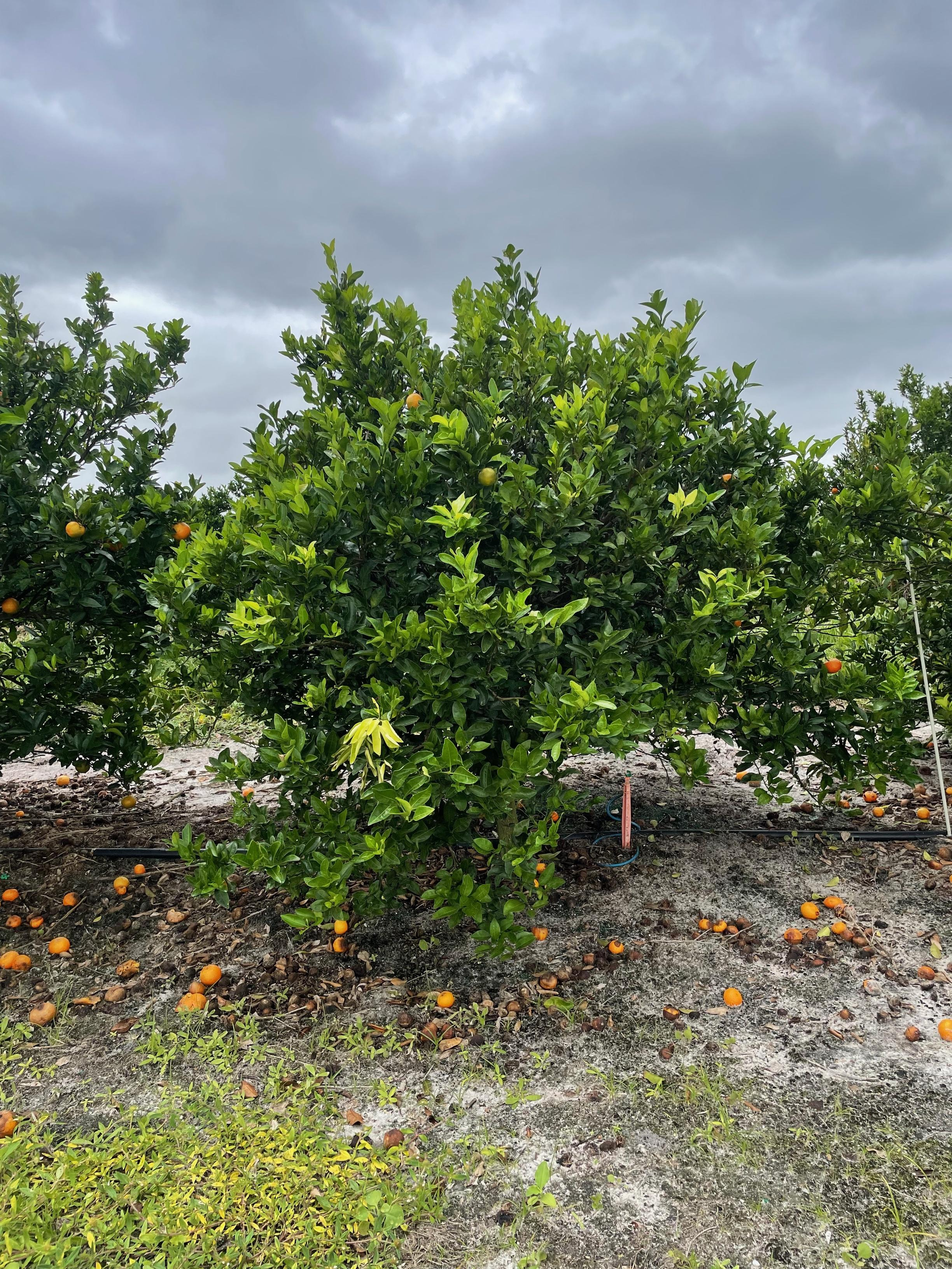fruit_on_ground: (101, 528, 131, 555), (167, 518, 194, 542), (62, 517, 88, 541), (475, 465, 500, 488), (820, 654, 845, 675), (1, 593, 22, 618), (403, 390, 426, 411), (717, 470, 739, 490), (119, 792, 139, 810), (726, 614, 744, 631), (73, 757, 91, 774), (830, 486, 839, 496)
fruit_on_tree: (28, 1000, 57, 1026), (175, 992, 208, 1013), (0, 1108, 19, 1139), (199, 962, 223, 984), (434, 988, 456, 1010), (723, 986, 744, 1007), (48, 935, 71, 954), (331, 914, 351, 935), (799, 900, 821, 919), (936, 1017, 952, 1043), (329, 935, 350, 954), (184, 977, 207, 994), (782, 925, 802, 944), (112, 875, 131, 895), (530, 923, 549, 942), (421, 1019, 439, 1039), (1, 950, 19, 970), (15, 953, 33, 972), (539, 974, 559, 991), (607, 937, 625, 955), (4, 912, 23, 929), (61, 890, 80, 907), (824, 893, 844, 909), (532, 858, 550, 875), (2, 886, 20, 903), (859, 788, 878, 804), (830, 920, 849, 936), (26, 913, 45, 928), (239, 784, 256, 800), (732, 767, 750, 782), (915, 804, 932, 819), (712, 918, 729, 933), (547, 808, 562, 824), (697, 916, 713, 931), (54, 773, 71, 787), (798, 799, 814, 813), (131, 862, 147, 876), (913, 781, 927, 795), (837, 796, 852, 809), (871, 804, 886, 817), (52, 816, 67, 828), (942, 781, 951, 801), (14, 808, 26, 819)
